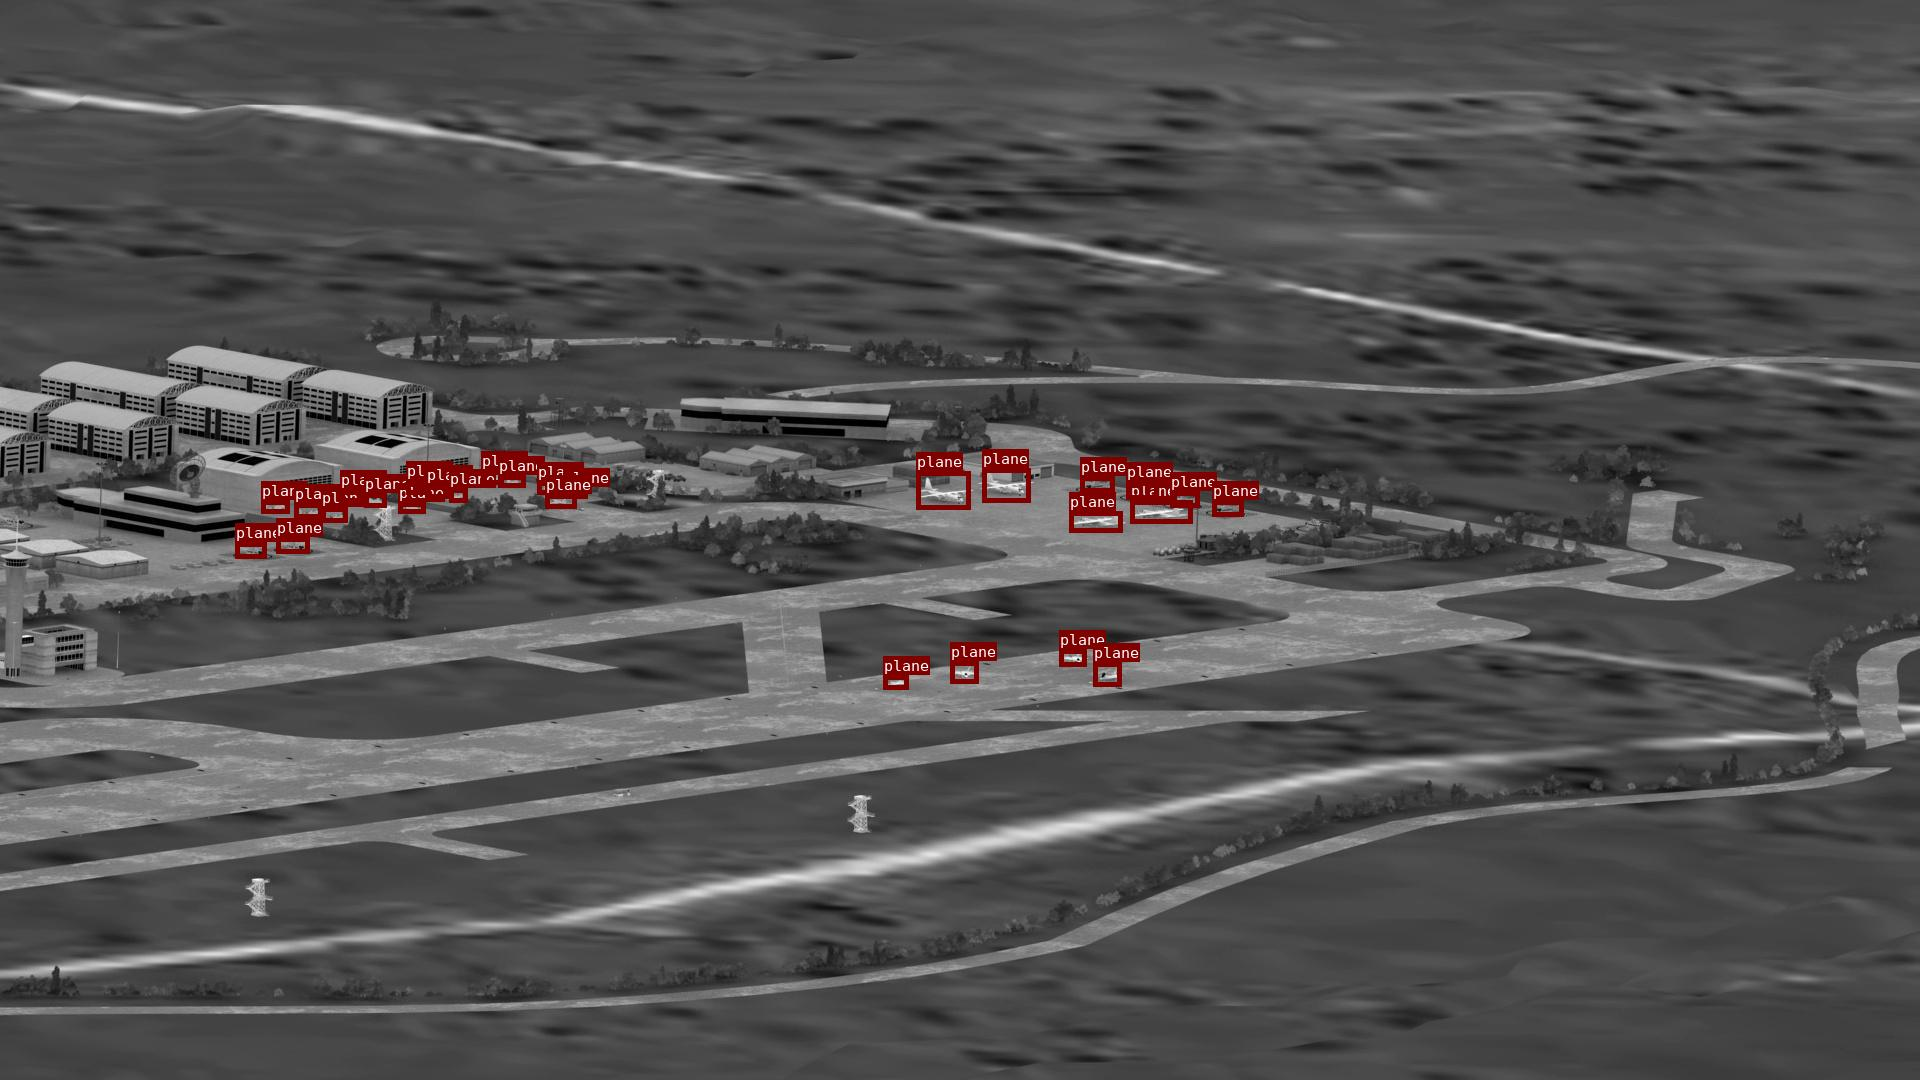plane: (916, 471, 971, 509), (982, 468, 1030, 502), (1130, 500, 1192, 524), (1069, 512, 1122, 531), (1093, 662, 1121, 686), (949, 661, 978, 683), (1080, 476, 1114, 492), (1126, 481, 1158, 498), (276, 537, 309, 553), (1212, 500, 1244, 516), (235, 542, 266, 558), (1059, 649, 1087, 666), (1170, 491, 1199, 506), (294, 502, 322, 518), (320, 506, 347, 522), (545, 495, 576, 508), (261, 500, 289, 513), (884, 675, 909, 688), (537, 481, 562, 495), (426, 484, 448, 498), (498, 475, 525, 487), (406, 480, 427, 495), (481, 469, 502, 484), (340, 489, 363, 502), (364, 493, 386, 506), (563, 487, 587, 498), (398, 502, 425, 513), (448, 488, 467, 502)
